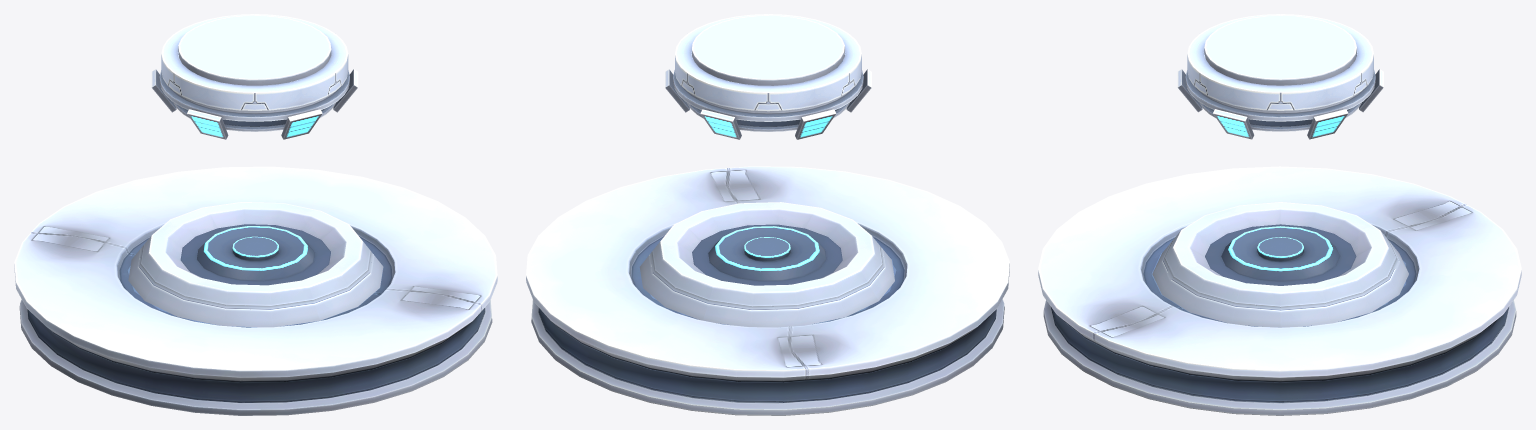
File: obj_atom.gltf
3 renders of one model, left to right at view 1: azimuth 30°, elevation 25°; view 2: azimuth 150°, elevation 25°; view 3: azimuth 270°, elevation 25°, orthographic.
Visible parts, largest first — view 1: obj_atom; view 2: obj_atom; view 3: obj_atom.
Boxes of the visible parts, box(x1,y1,x2,y2) form: obj_atom: box(14, 14, 497, 415); obj_atom: box(526, 14, 1009, 415); obj_atom: box(1038, 14, 1521, 415).
Size of what is drawn, in the model's own units: 7.47 by 4.57 by 7.47.
Materials: 2 (2 with a texture image).
